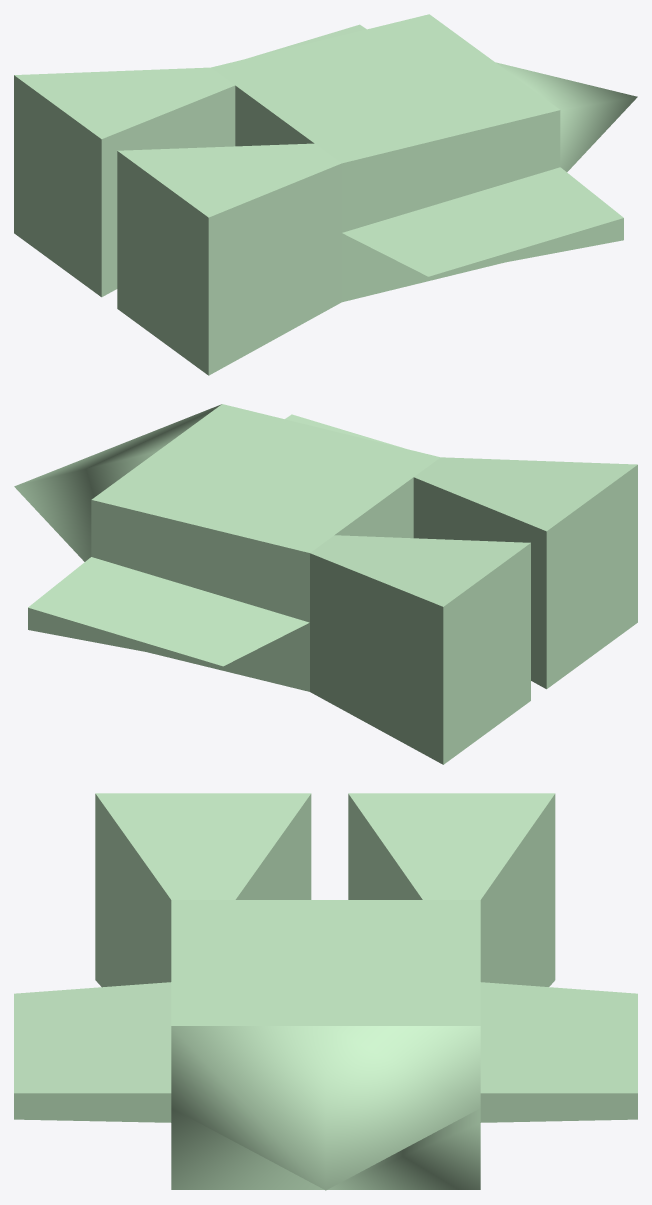
File: player1.fbx
3 views of the same model, one above another, from view 1: azimuth 30°, elevation 25°; view 2: azimuth 150°, elevation 25°; view 3: azimuth 270°, elevation 25° (orthographic). The views are drawn at different scales.
Visible parts, largest first — view 1: Box001; view 2: Box001; view 3: Box001.
Part boxes in pixels (x1=…): Box001: x1=14, y1=14, x2=637, y2=375; Box001: x1=14, y1=404, x2=637, y2=764; Box001: x1=14, y1=793, x2=637, y2=1190.
Size of the model in its own units: 10000 by 2868 by 8684.
